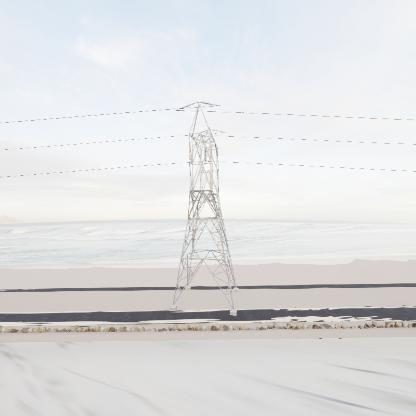tower: (175, 98, 235, 317)
